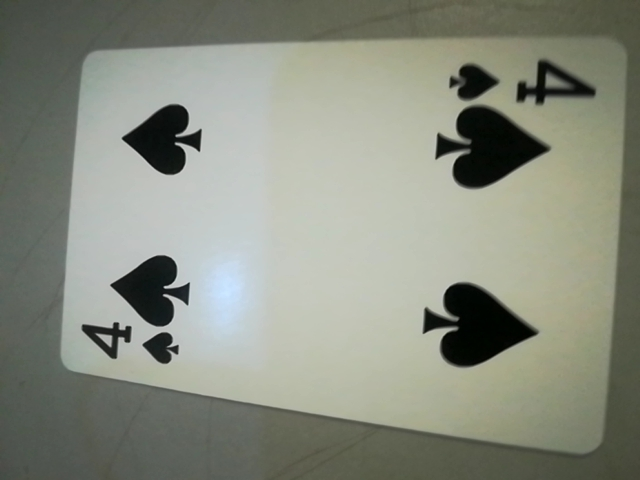ht 4: (431, 53, 612, 118)
